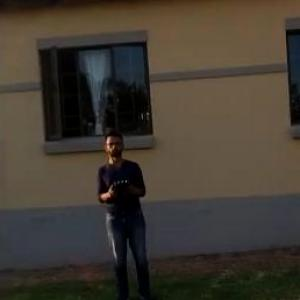follow: (93, 122, 159, 299)
